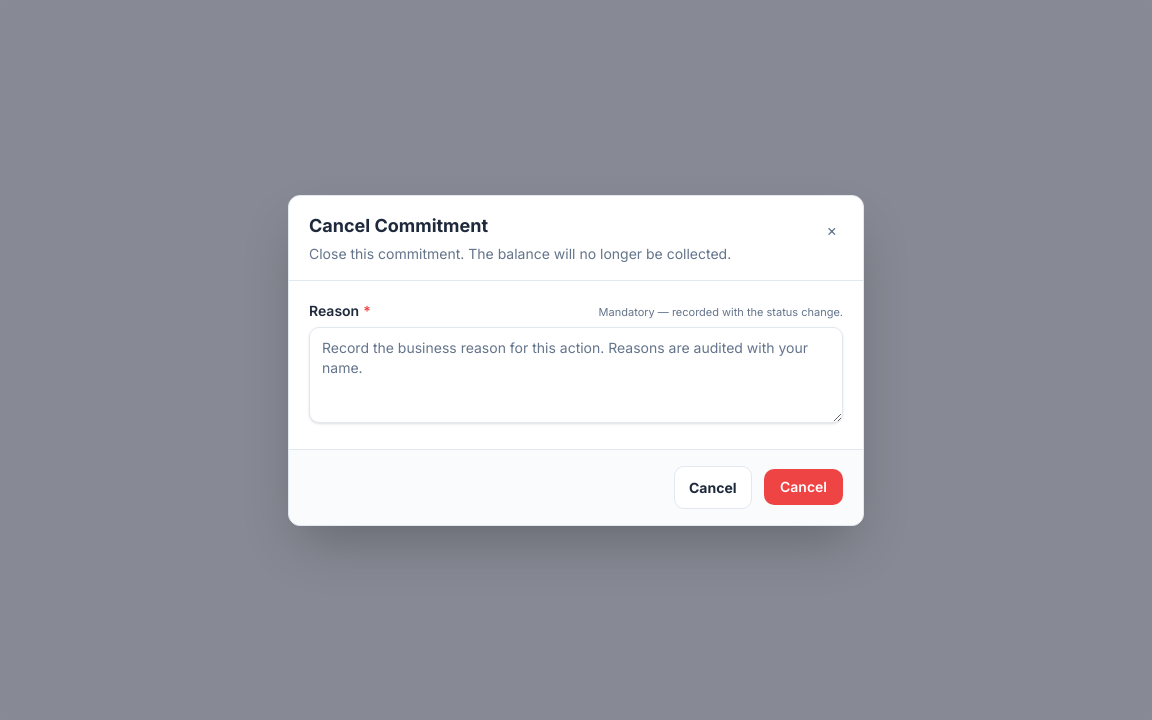
LifecycleActionModal — validation per action › cancel requires a mandatory reason
Step 1. Click the button with test id "lifecycle-submit-cancel" → (804, 487), box [764,469,843,505]
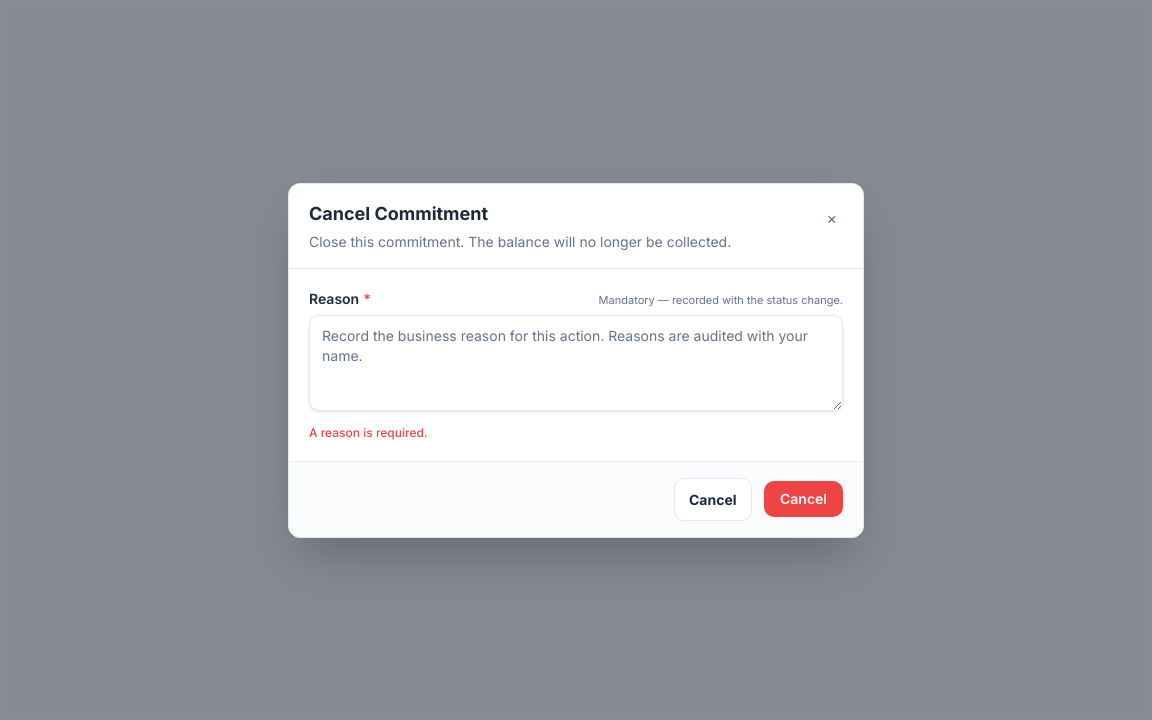
Now the text "A reason is required." is shown, box [309,424,428,440]
